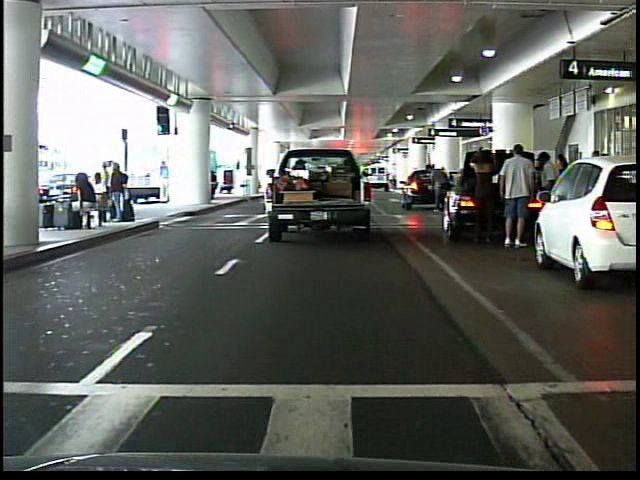person: (464, 141, 502, 252), (497, 141, 535, 249), (533, 144, 561, 251), (424, 158, 451, 216), (157, 159, 173, 204)
